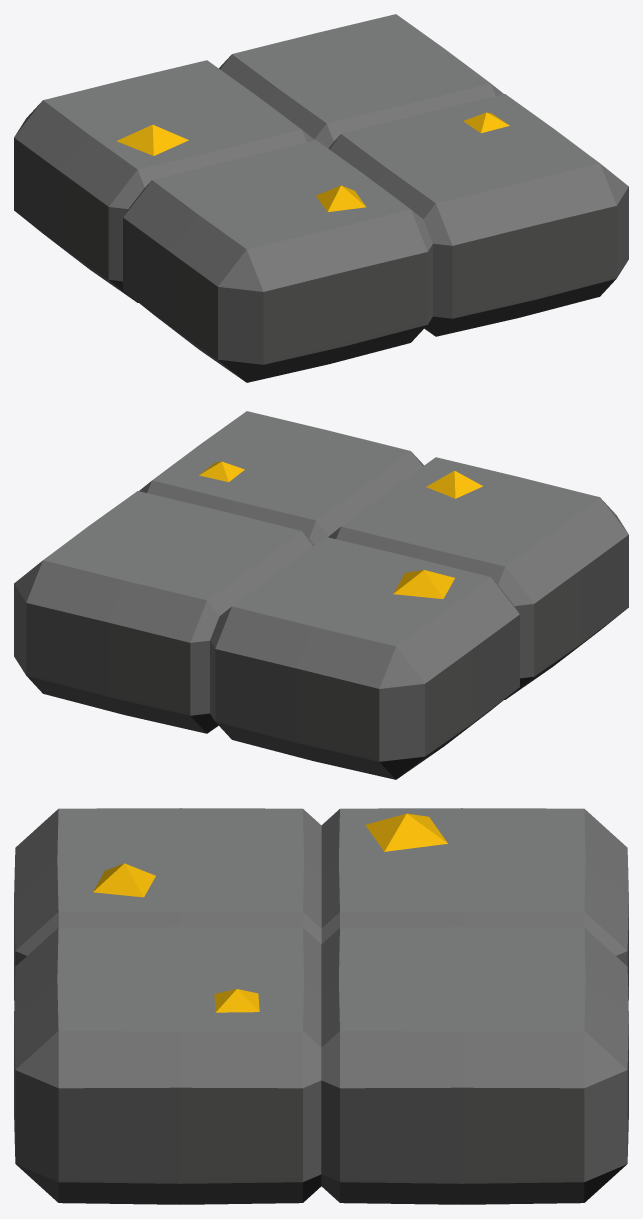
The model's file is m_kub_ore_floorFour.FBX.
3 renders of one model, top to bottom at view 1: azimuth 30°, elevation 25°; view 2: azimuth 150°, elevation 25°; view 3: azimuth 270°, elevation 25°, orthographic. The views are drawn at different scales.
Parts seen in each view (by area): view 1: m_kub_ore_floorFour; view 2: m_kub_ore_floorFour; view 3: m_kub_ore_floorFour.
Part boxes in pixels (x1,y1,x2,y2): m_kub_ore_floorFour: (14, 14, 628, 382); m_kub_ore_floorFour: (14, 411, 628, 779); m_kub_ore_floorFour: (14, 808, 628, 1204).
Size of the model in its own units: 2.18 by 0.7688 by 2.18.
